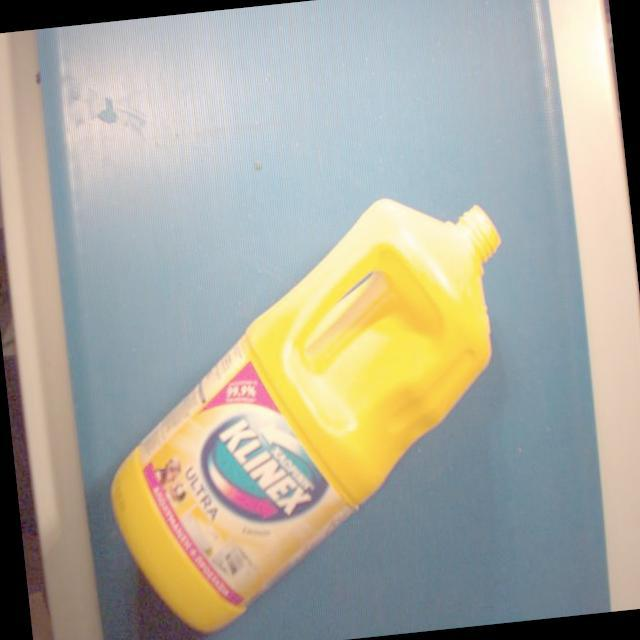HDPE Plastic: (106, 194, 506, 638)
